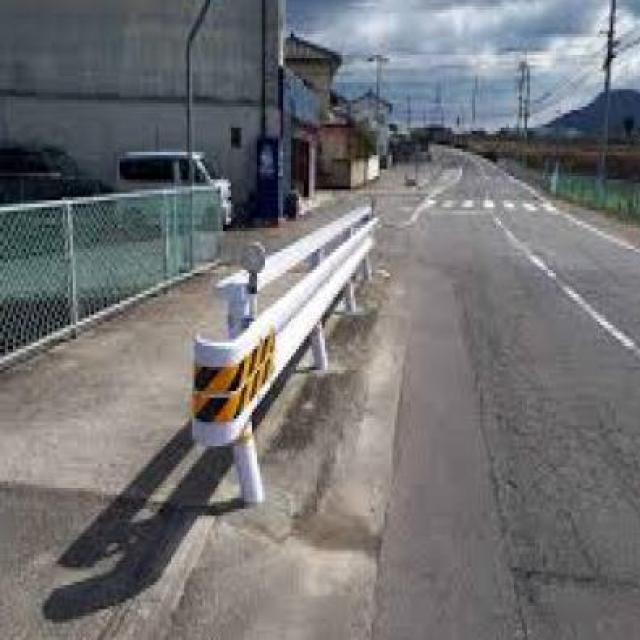Guard rail: (184, 193, 387, 526)
